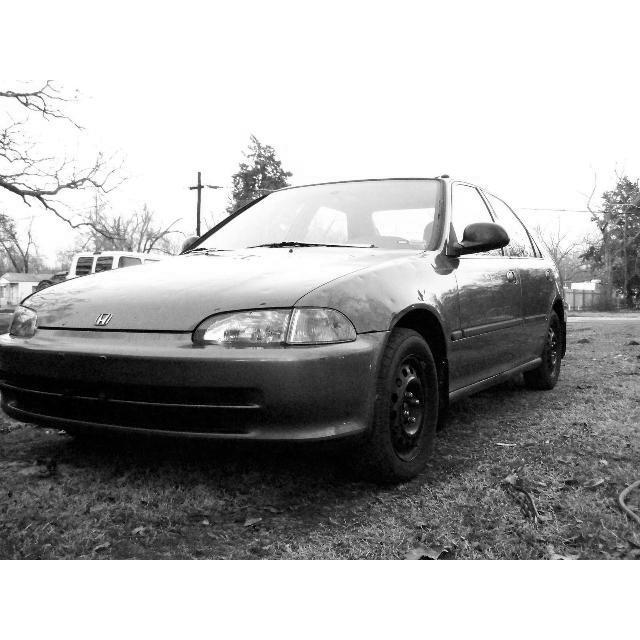bonnet-dent: (114, 238, 420, 339)
